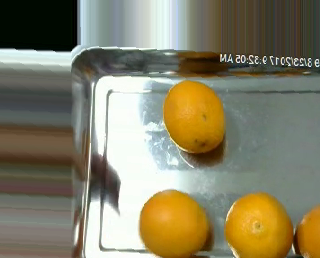Orange: (138, 188, 209, 258), (223, 191, 295, 258), (164, 79, 227, 151)
